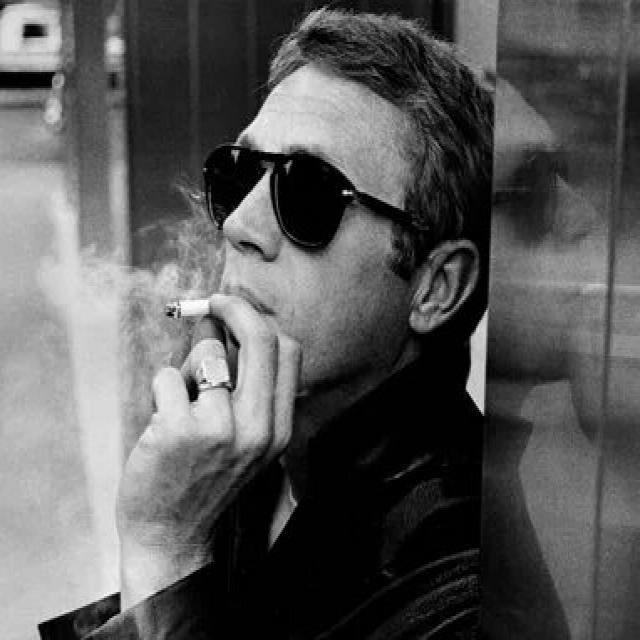smoke: (159, 298, 221, 322)
